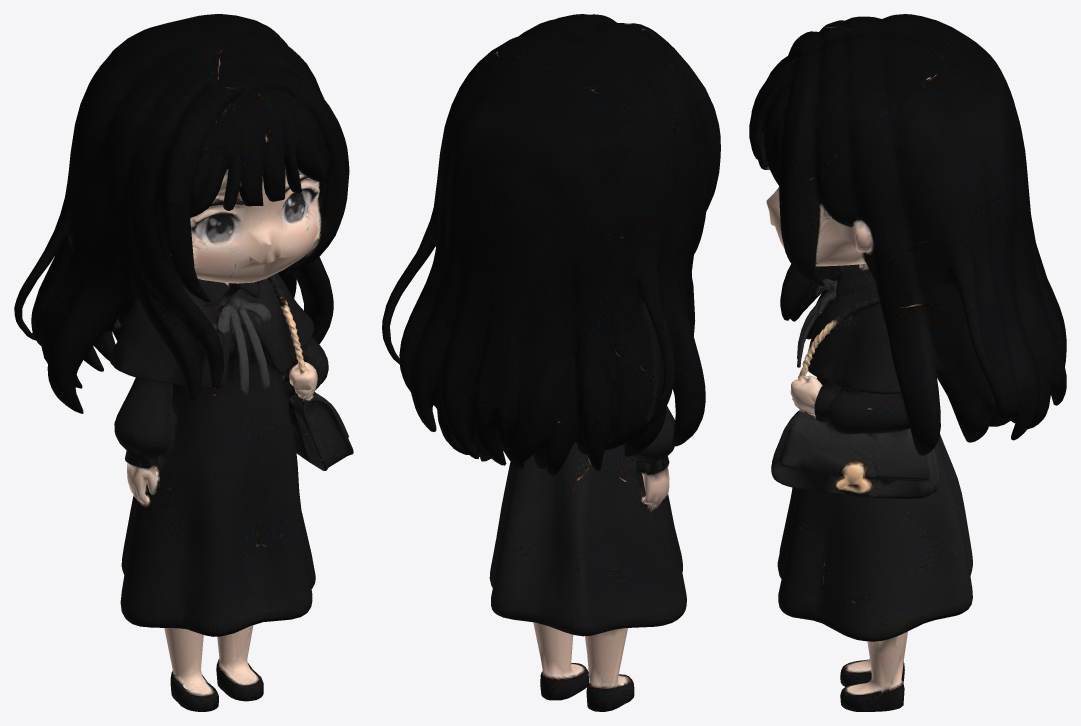
Rendered from chibi-figure-ios-compact.glb.
The picture shows the model from 3 angles, left to right: view 1: azimuth 30°, elevation 25°; view 2: azimuth 150°, elevation 25°; view 3: azimuth 270°, elevation 25°; orthographic projection.
Visible parts, largest first — view 1: Mesh_0; view 2: Mesh_0; view 3: Mesh_0.
Boxes of the visible parts, <box> form: Mesh_0: <box>14,14,353,711</box>; Mesh_0: <box>382,14,720,711</box>; Mesh_0: <box>749,14,1066,711</box>.
Bounding box in the file's own units: 0.0909 × 0.2 × 0.0869.
Materials: 1 (1 with a texture image).
